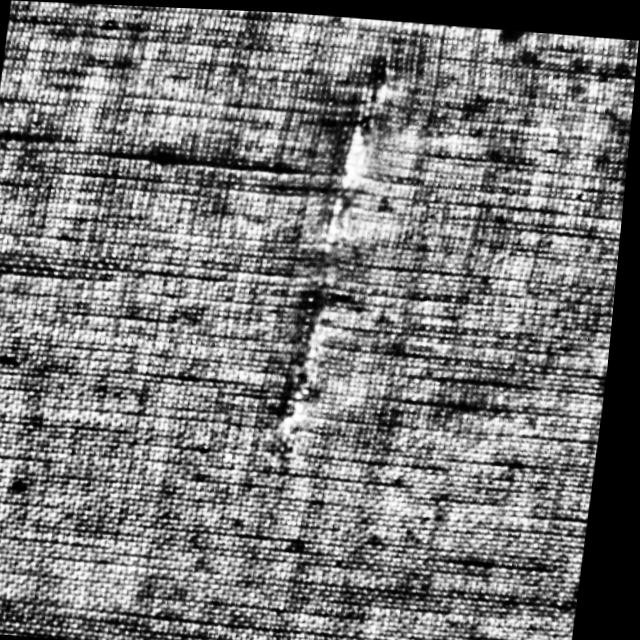Stitch: (283, 33, 396, 454)
